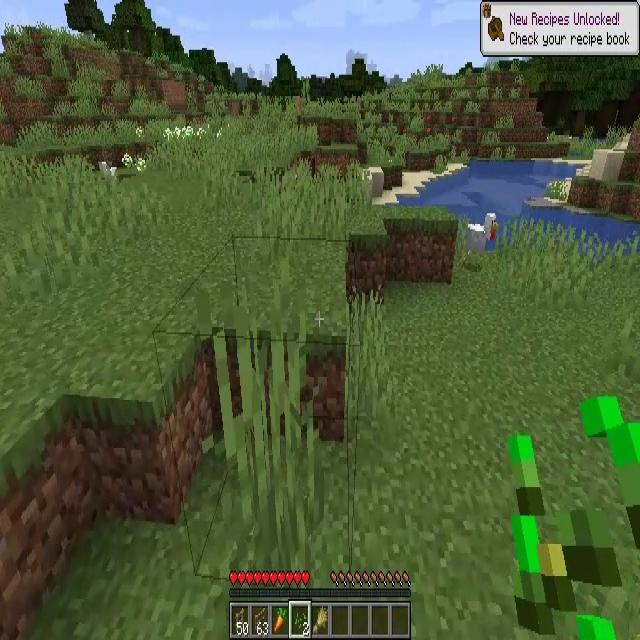duck: (466, 213, 498, 254)
flower: (122, 153, 132, 170), (136, 160, 146, 172)
